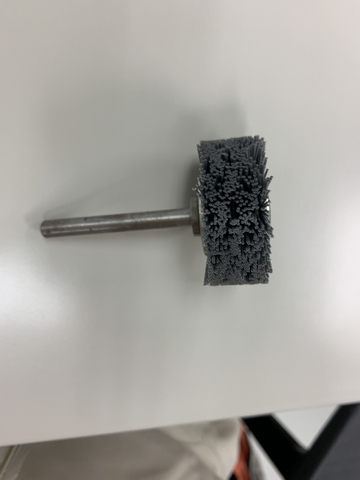Wheel Brush: (39, 134, 283, 292), (111, 129, 277, 303)
